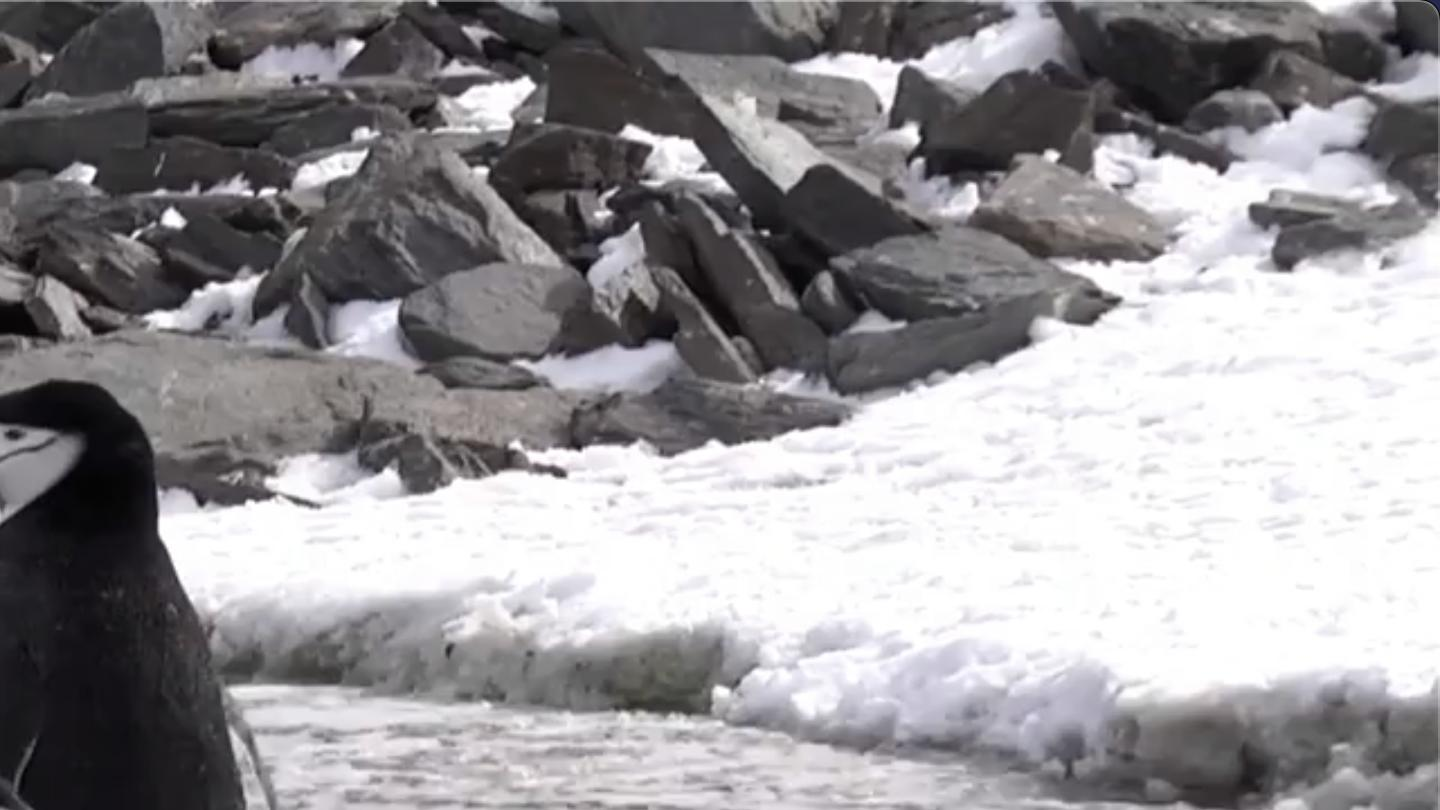Chinstrap Penguin: (0, 340, 242, 629), (0, 675, 121, 810)
